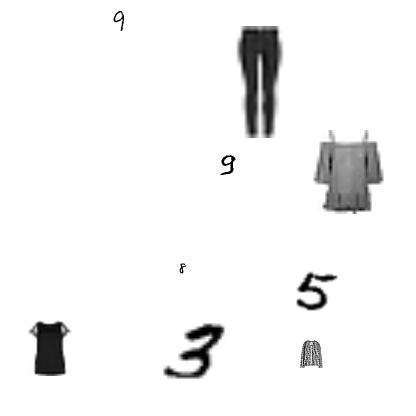3: (155, 306, 239, 390)
5: (285, 262, 341, 318)
8: (175, 261, 189, 275)
9: (105, 5, 133, 33), (214, 150, 242, 178)
Coat: (297, 340, 325, 368)
Shirt: (305, 130, 389, 214)
T-shirt/top: (21, 320, 77, 376)
Trouser: (202, 26, 314, 138)
